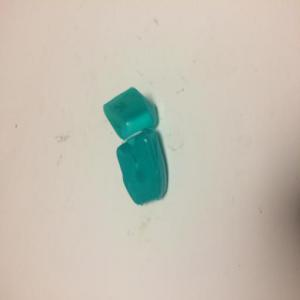Trash: (103, 88, 169, 206)
